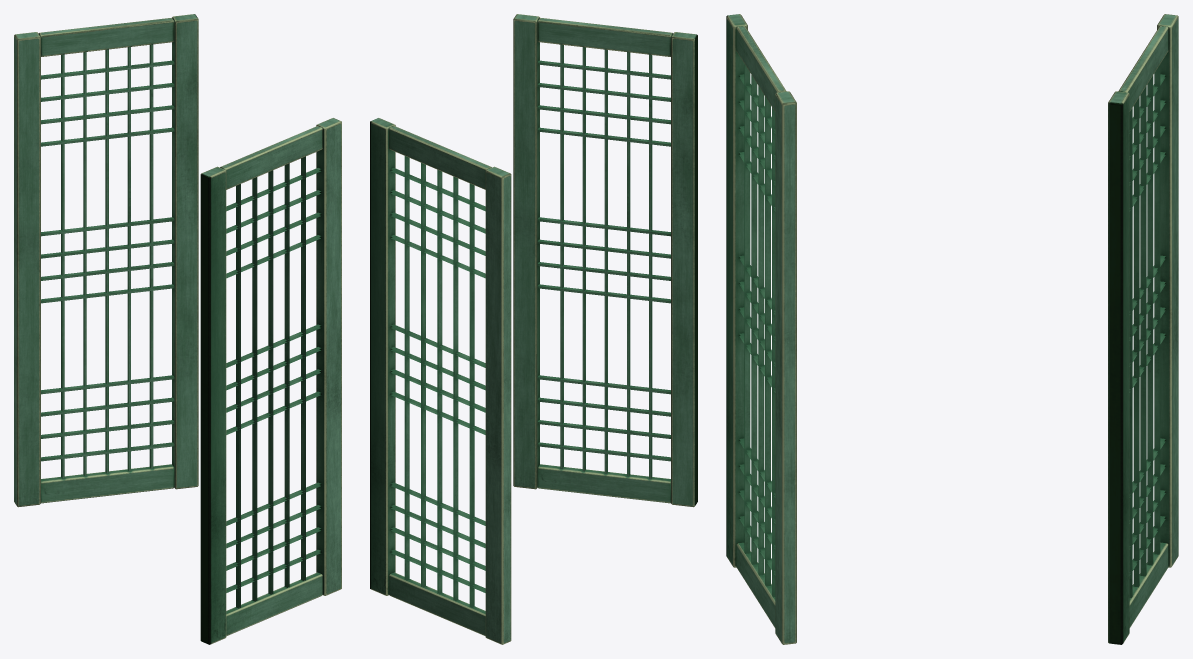
Rendered from TraditionalKoreanHouse_WindowAOpen.fbx.
3 views of the same model, side by side, from view 1: azimuth 30°, elevation 25°; view 2: azimuth 150°, elevation 25°; view 3: azimuth 270°, elevation 25° (orthographic). The views are drawn at different scales.
Parts seen in each view (by area): view 1: TraditionalKoreanHouse_WindowAOpen; view 2: TraditionalKoreanHouse_WindowAOpen; view 3: TraditionalKoreanHouse_WindowAOpen.
Boxes of the visible parts, box(x1,y1,x2,y2) form: TraditionalKoreanHouse_WindowAOpen: box(14, 14, 341, 644); TraditionalKoreanHouse_WindowAOpen: box(370, 14, 697, 644); TraditionalKoreanHouse_WindowAOpen: box(726, 14, 1178, 644).
Bounding box in the file's own units: 57.12 × 160 × 121.
